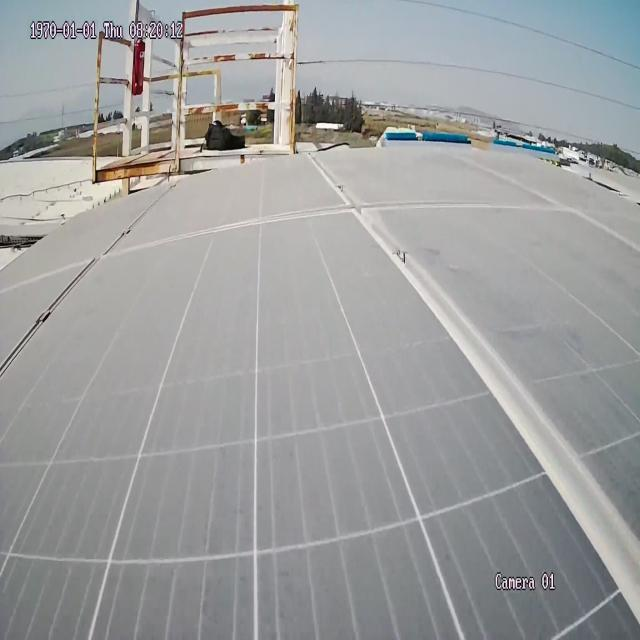interior panel: (305, 157, 635, 626), (0, 188, 165, 372), (118, 199, 347, 253), (374, 195, 571, 224)
